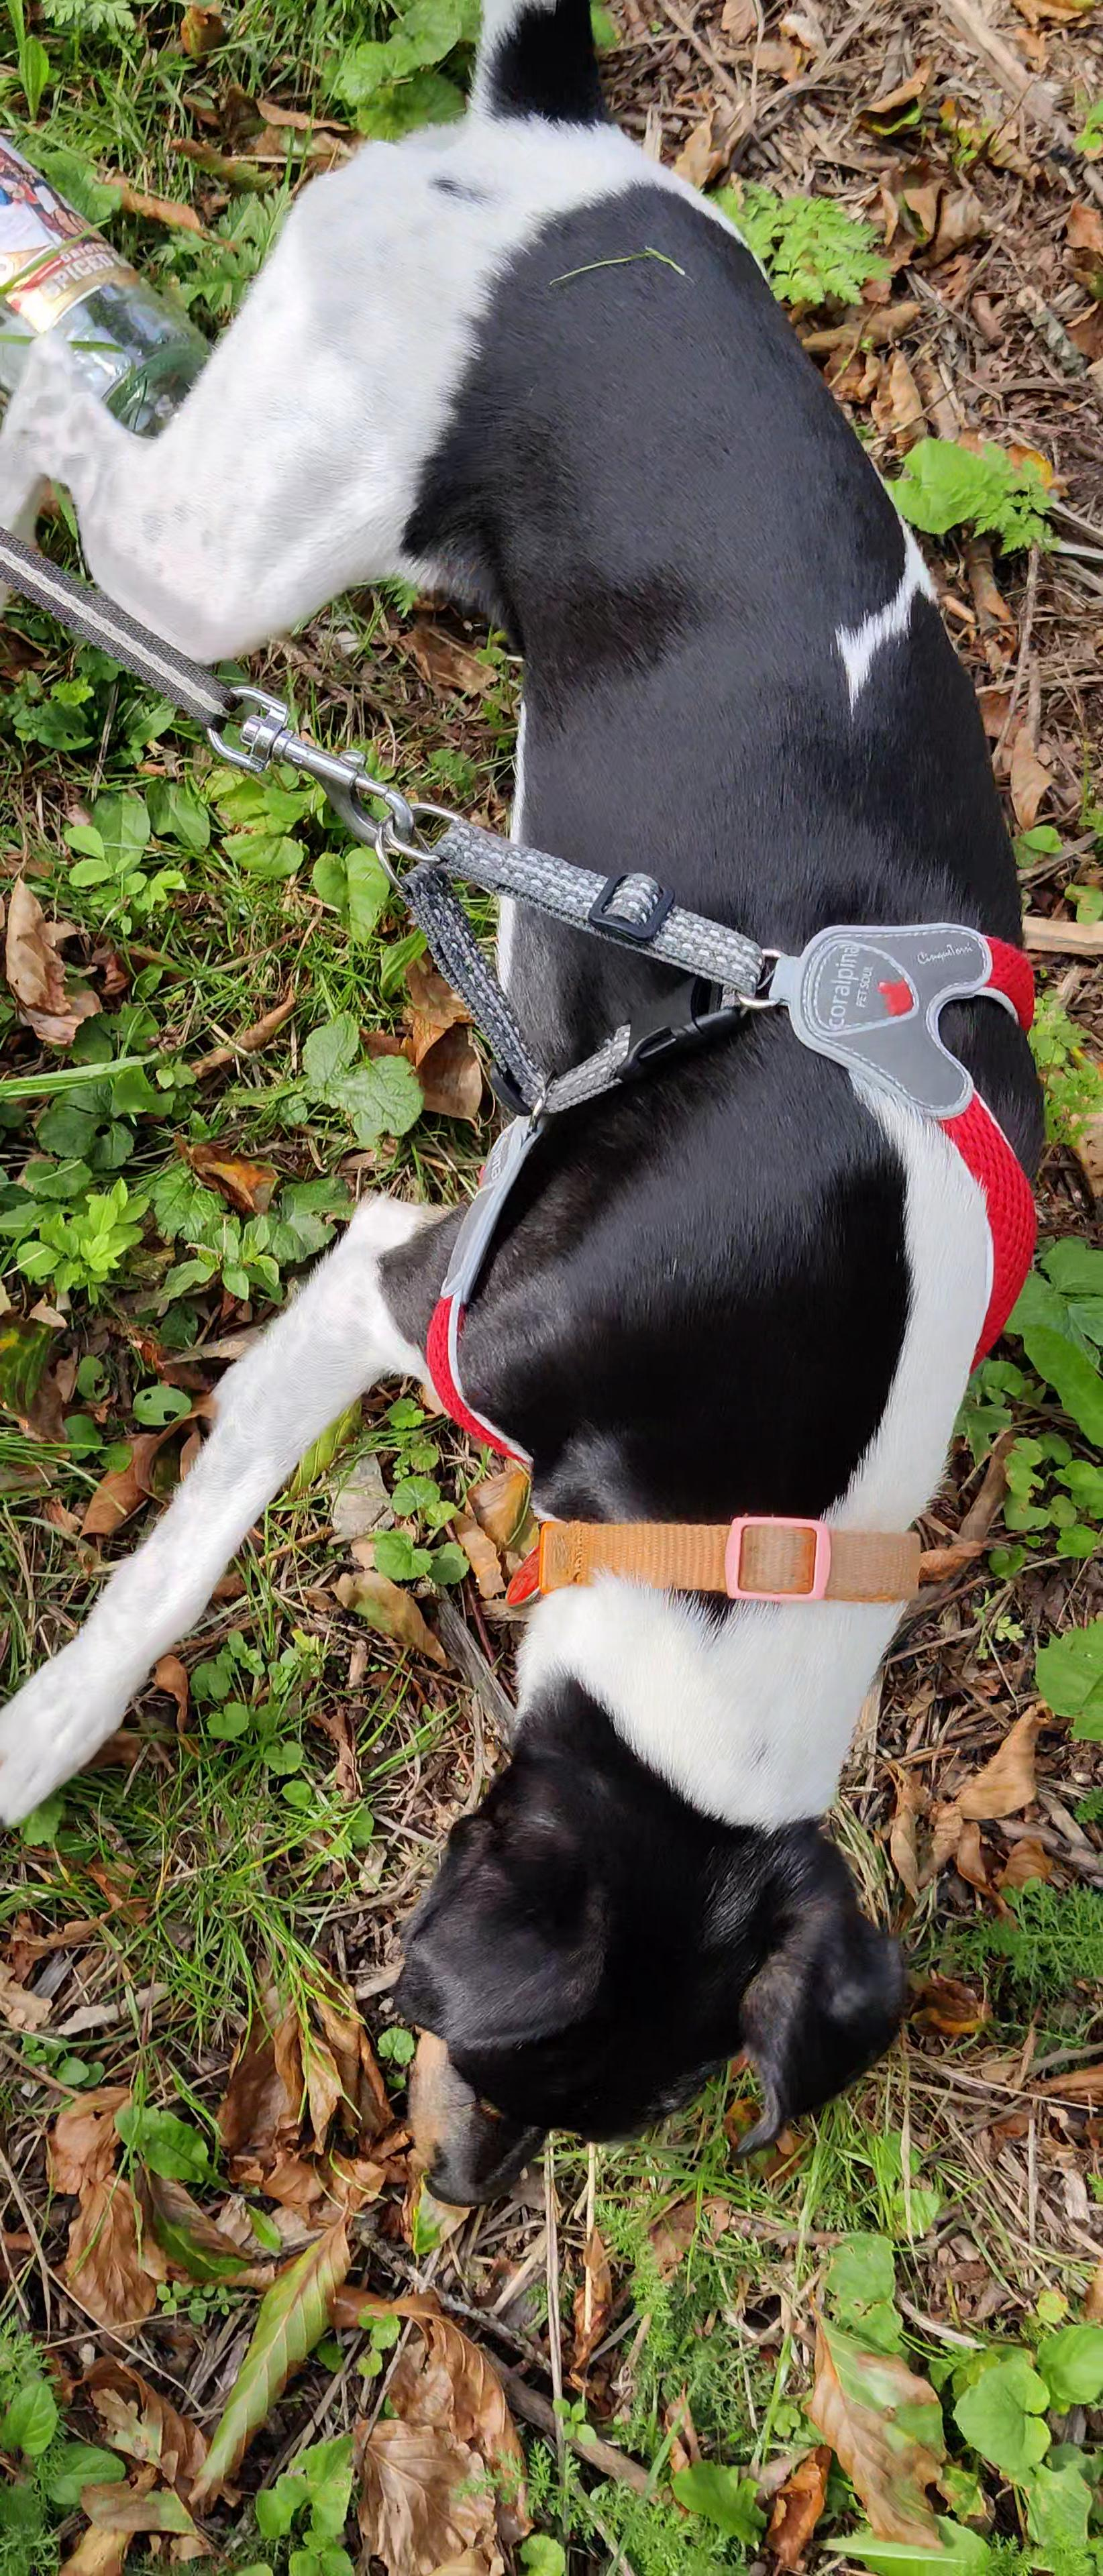Dog: (0, 0, 1077, 2218)
